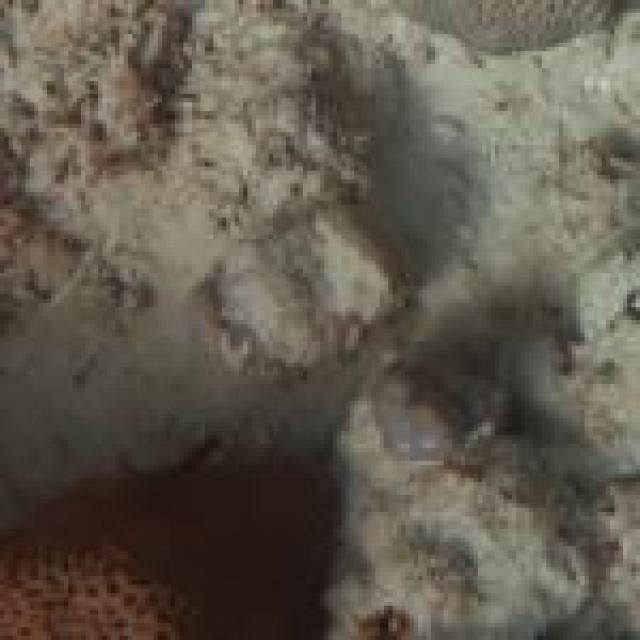Bleached Coral: (396, 0, 640, 91)
Healthy Coral: (0, 465, 279, 640)
